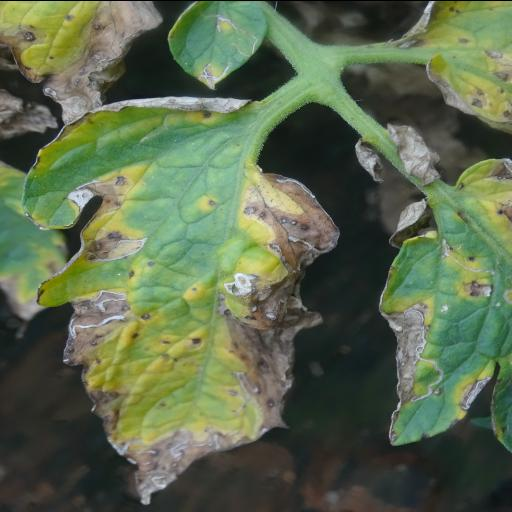Early Blight: (16, 90, 343, 512)
